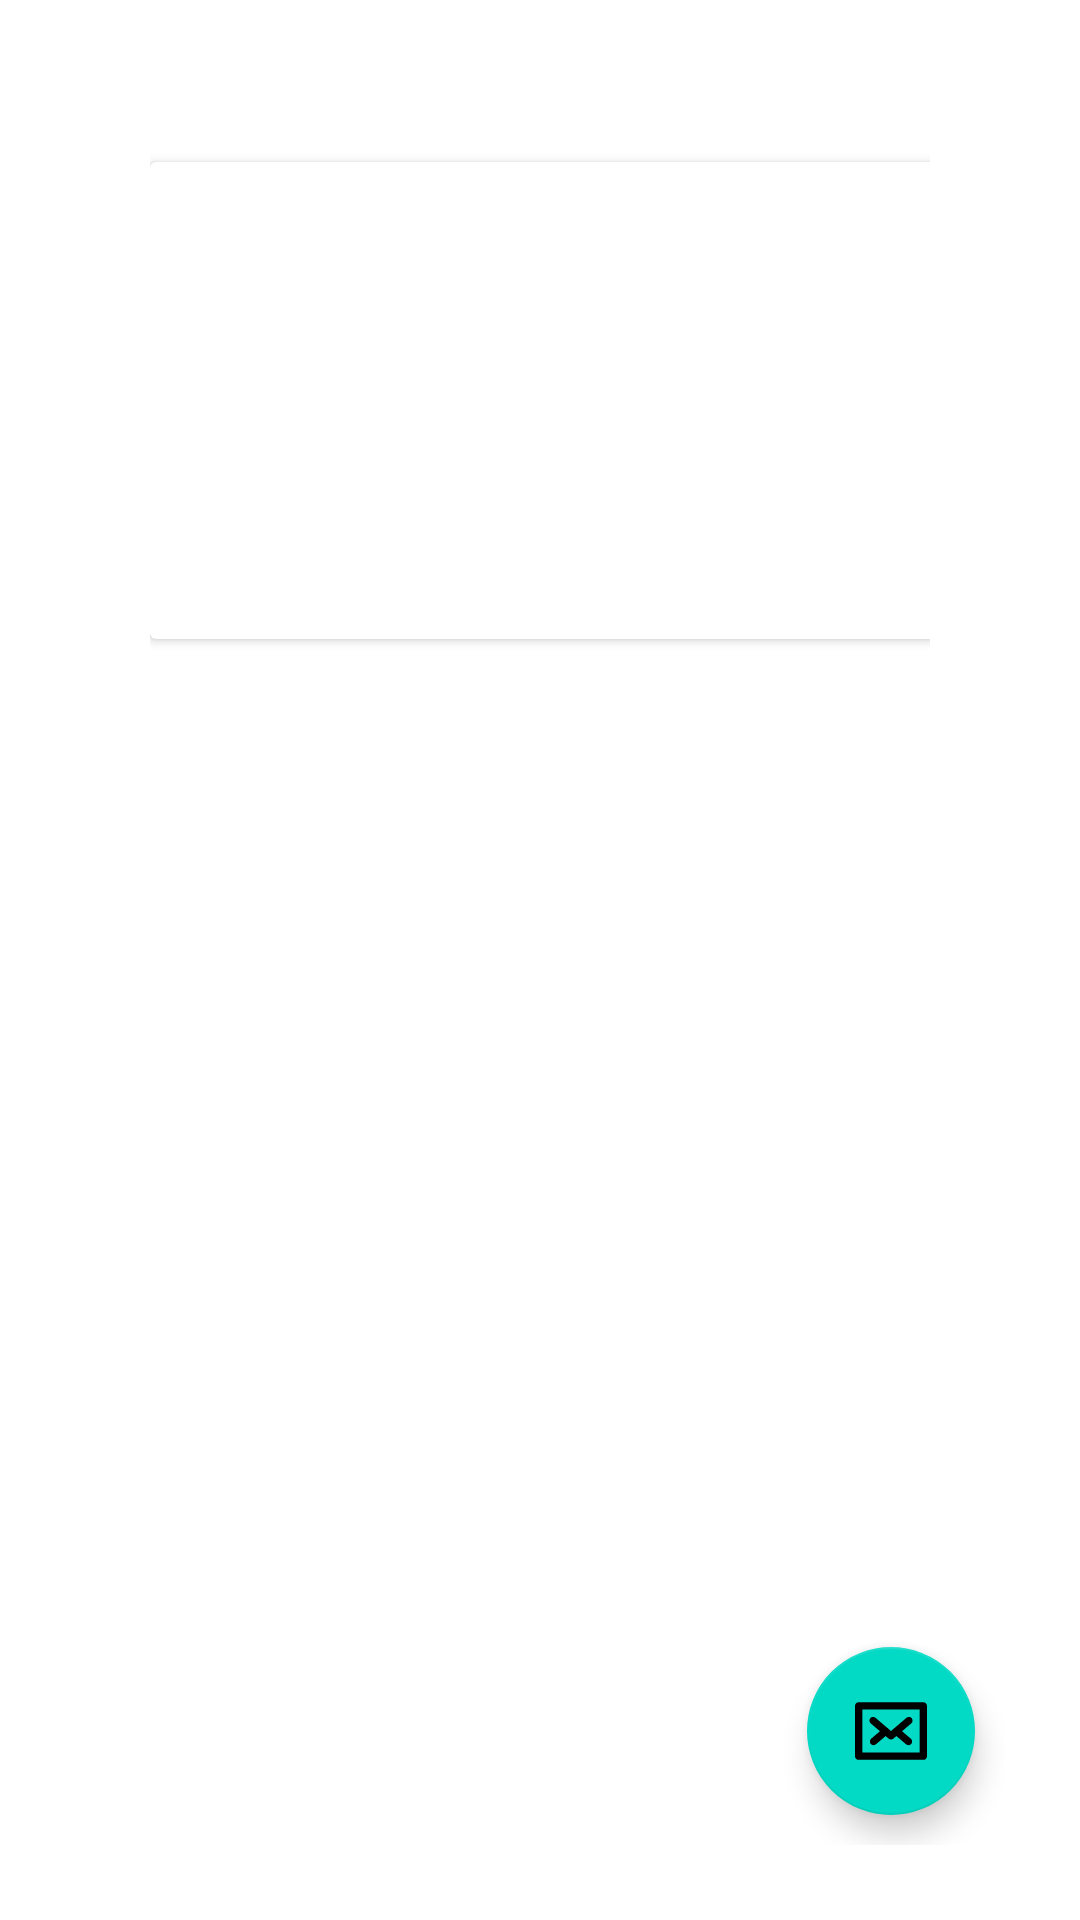

Named icons in this screenshot (1080×1920) and their centers, [x,y]:
letter: [891,1731]
